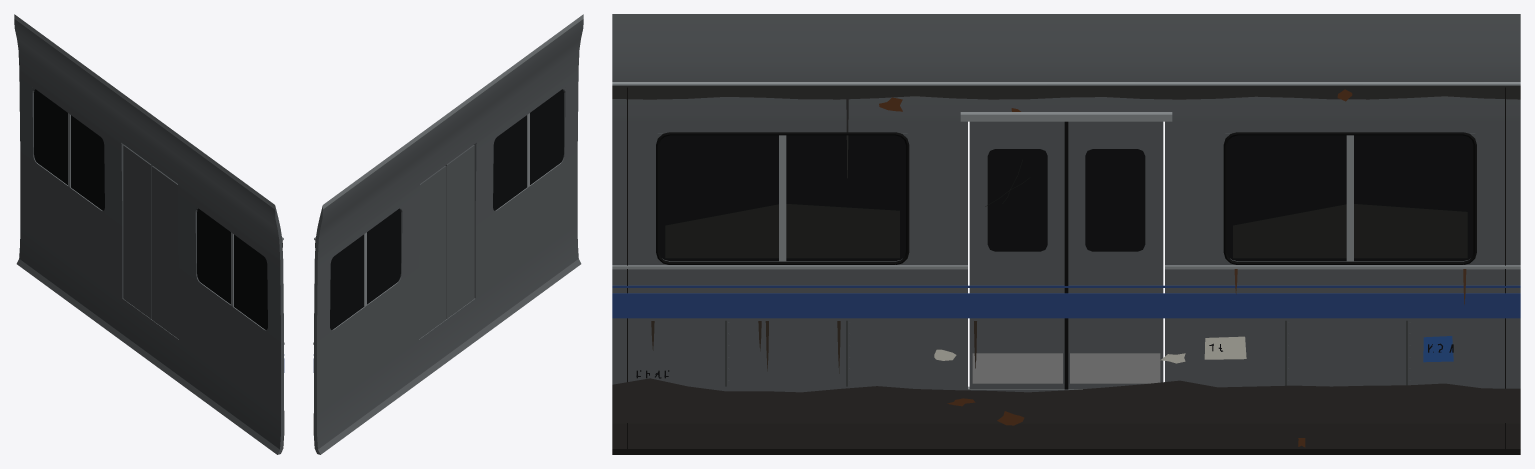
Rendered from metro_dormant_b@1.glb.
3 renders of one model, left to right at view 1: azimuth 30°, elevation 25°; view 2: azimuth 150°, elevation 25°; view 3: azimuth 270°, elevation 25°, orthographic. The views are drawn at different scales.
Visible parts, largest first — view 1: oben, schuerze, unten-3.00, unten0.65, glas-2.7, glas1.1, tuer1, tuer0, pfeiler0.65, pfeiler-1.05, pfeiler-3.00, pfeiler2.70 (+2 smaller); view 2: oben, schuerze, unten0.65, unten-3.00, glas-2.7, glas1.1, tuer0, tuer1, pfeiler-1.05, pfeiler0.65, pfeiler2.70, pfeiler-3.00 (+2 smaller); view 3: oben, bremsstaub, unten-3.00, unten0.65, streifen, glas1.1, glas-2.7, tuer0, tuer1, ablaufschmutz, glas_staub-2.7, glas_staub1.1 (+20 smaller).
Boxes of the visible parts, x1,y1,x2,y2 form: oben: [14, 14, 282, 258]; schuerze: [16, 224, 283, 454]; unten-3.00: [179, 267, 283, 414]; unten0.65: [20, 151, 123, 298]; glas-2.7: [197, 208, 267, 329]; glas1.1: [34, 89, 104, 210]; tuer1: [123, 145, 151, 318]; tuer0: [151, 165, 178, 339]; pfeiler0.65: [104, 140, 123, 225]; pfeiler-1.05: [178, 193, 196, 279]; pfeiler-3.00: [267, 259, 283, 341]; pfeiler2.70: [19, 77, 33, 160]; oben: [315, 14, 583, 258]; schuerze: [314, 224, 581, 454]; unten0.65: [314, 267, 418, 414]; unten-3.00: [474, 151, 577, 298]; glas-2.7: [493, 89, 563, 210]; glas1.1: [330, 208, 400, 329]; tuer0: [446, 145, 474, 318]; tuer1: [419, 165, 446, 339]; pfeiler-1.05: [474, 140, 493, 225]; pfeiler0.65: [401, 193, 419, 279]; pfeiler2.70: [314, 259, 330, 341]; pfeiler-3.00: [564, 77, 578, 160]; oben: [612, 14, 1520, 116]; bremsstaub: [612, 378, 1520, 454]; unten-3.00: [612, 261, 967, 389]; unten0.65: [1165, 261, 1520, 388]; streifen: [612, 293, 1520, 318]; glas1.1: [1227, 135, 1473, 261]; glas-2.7: [659, 135, 905, 261]; tuer0: [969, 121, 1064, 388]; tuer1: [1068, 121, 1163, 388]; ablaufschmutz: [612, 86, 1520, 178]; glas_staub-2.7: [665, 204, 899, 258]; glas_staub1.1: [1233, 204, 1467, 258].
Bounding box in the file's own units: 0.1591 × 3.18 × 6.
